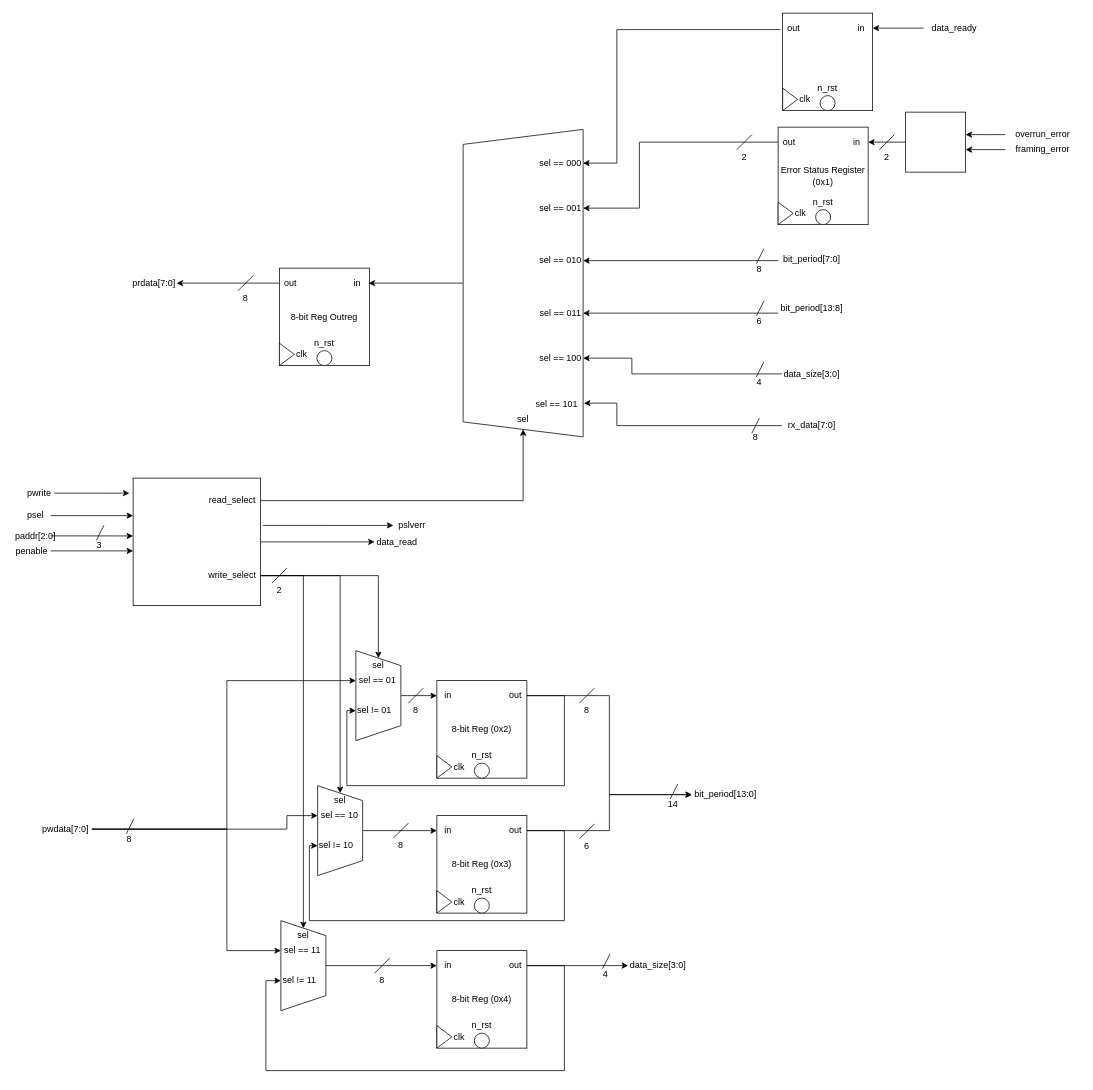
The diagram is 1093 pixels wide and 1090 high, and some of its shapes have lost their labels. Here are the shapes that lost their labels. From the top down, the box of each, then its label:
(782, 12, 873, 111): Data Status Register (0x0)
(905, 111, 966, 172): Comb Block (0 if none, 1 if framing, 2 if overrun)
(132, 477, 261, 606): Address Mapping (comb)
